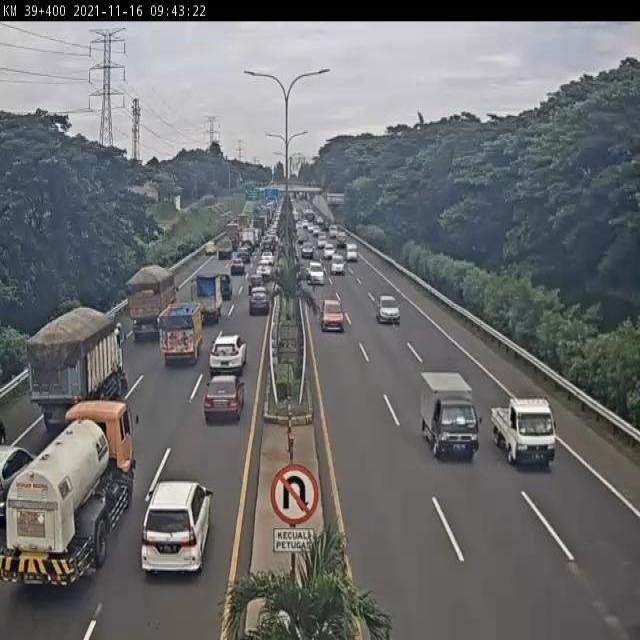Car: (142, 481, 214, 578), (0, 444, 42, 524), (204, 374, 245, 423), (210, 334, 248, 375), (319, 299, 345, 333), (376, 294, 400, 325), (248, 286, 270, 315), (306, 261, 326, 287), (256, 259, 274, 281), (329, 254, 346, 276), (230, 258, 246, 276), (299, 241, 315, 259), (248, 273, 265, 288), (323, 243, 336, 260), (260, 239, 276, 251), (206, 240, 217, 255), (260, 251, 274, 262)
Truck: (0, 398, 140, 588), (25, 304, 128, 432), (419, 370, 483, 462), (490, 394, 557, 470), (125, 265, 181, 343), (156, 301, 205, 365), (194, 273, 224, 325), (225, 222, 241, 250), (241, 228, 256, 251), (316, 231, 328, 250), (336, 232, 348, 249), (236, 214, 251, 227), (328, 225, 338, 239)
